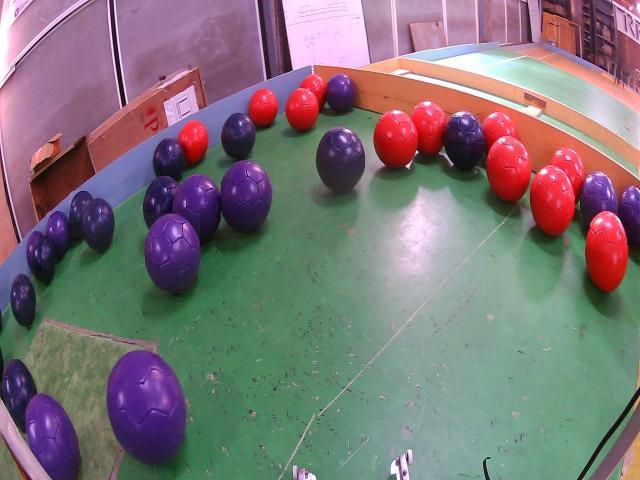jambhalya: (106, 350, 186, 465), (25, 394, 81, 480), (145, 214, 200, 293), (220, 160, 273, 233), (173, 175, 221, 242), (581, 171, 617, 226), (619, 186, 639, 245), (325, 73, 355, 112), (46, 211, 71, 257), (27, 231, 42, 271)
kaalyya: (316, 127, 365, 193), (2, 360, 38, 431), (443, 111, 485, 171), (143, 177, 179, 228), (83, 198, 115, 252), (222, 113, 256, 160), (11, 273, 37, 327), (153, 138, 185, 180), (31, 237, 57, 283), (69, 191, 92, 237)
